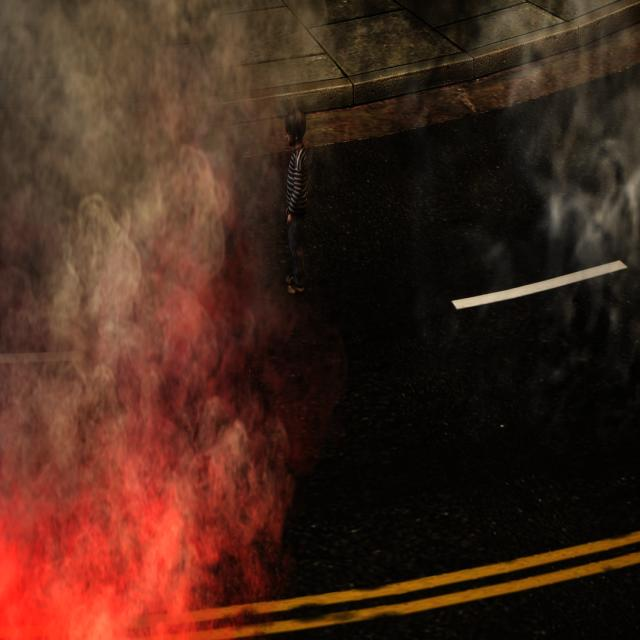Human: (276, 104, 314, 306)
